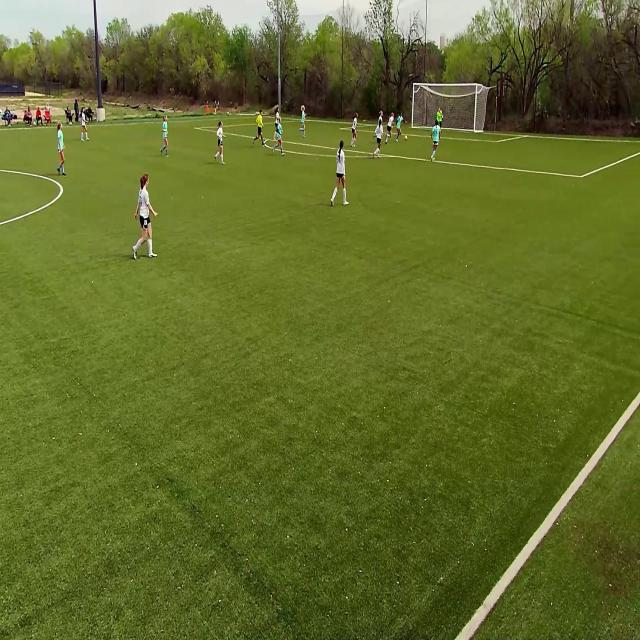ball: (404, 134, 408, 142)
team1: (56, 122, 67, 176), (432, 119, 442, 162), (161, 114, 170, 158), (395, 111, 406, 144), (277, 119, 284, 154), (301, 103, 307, 137), (378, 110, 383, 120)
team2: (132, 177, 158, 264), (333, 139, 349, 206), (216, 120, 227, 163), (374, 120, 383, 158), (385, 110, 394, 145), (350, 112, 358, 150), (82, 112, 90, 142), (274, 106, 280, 125)
